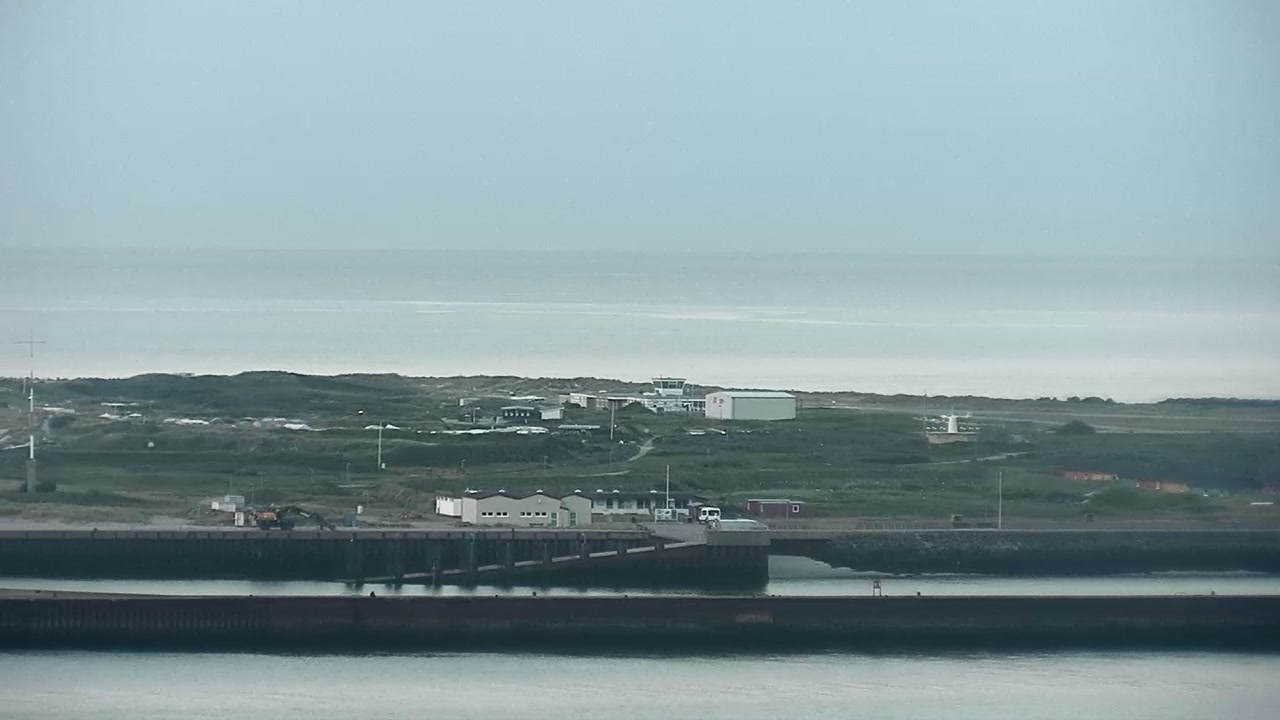land: (254, 502, 336, 532), (697, 506, 721, 523)
